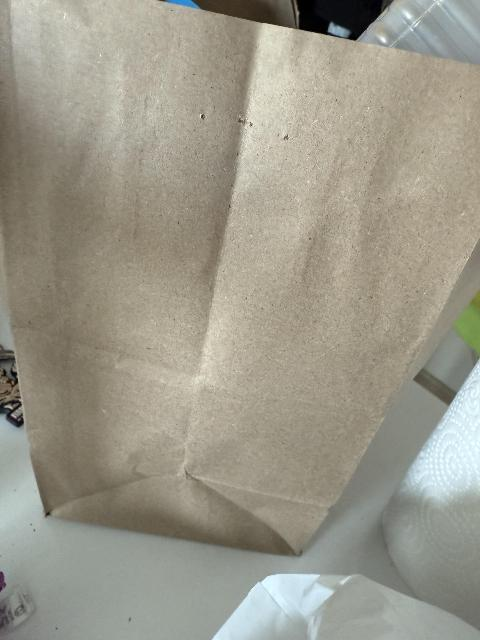Kagit: (0, 0, 480, 589)
